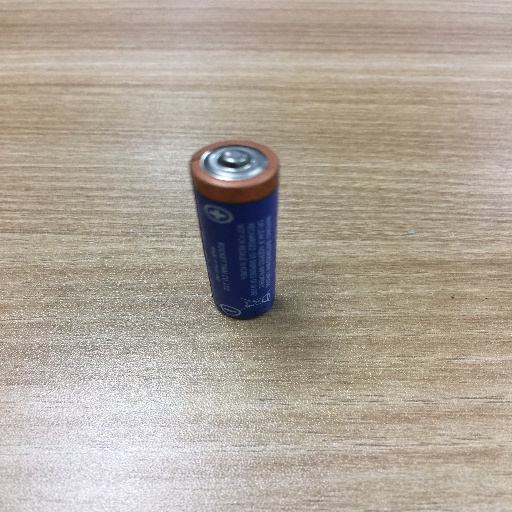Battery_0: (180, 125, 301, 342)
